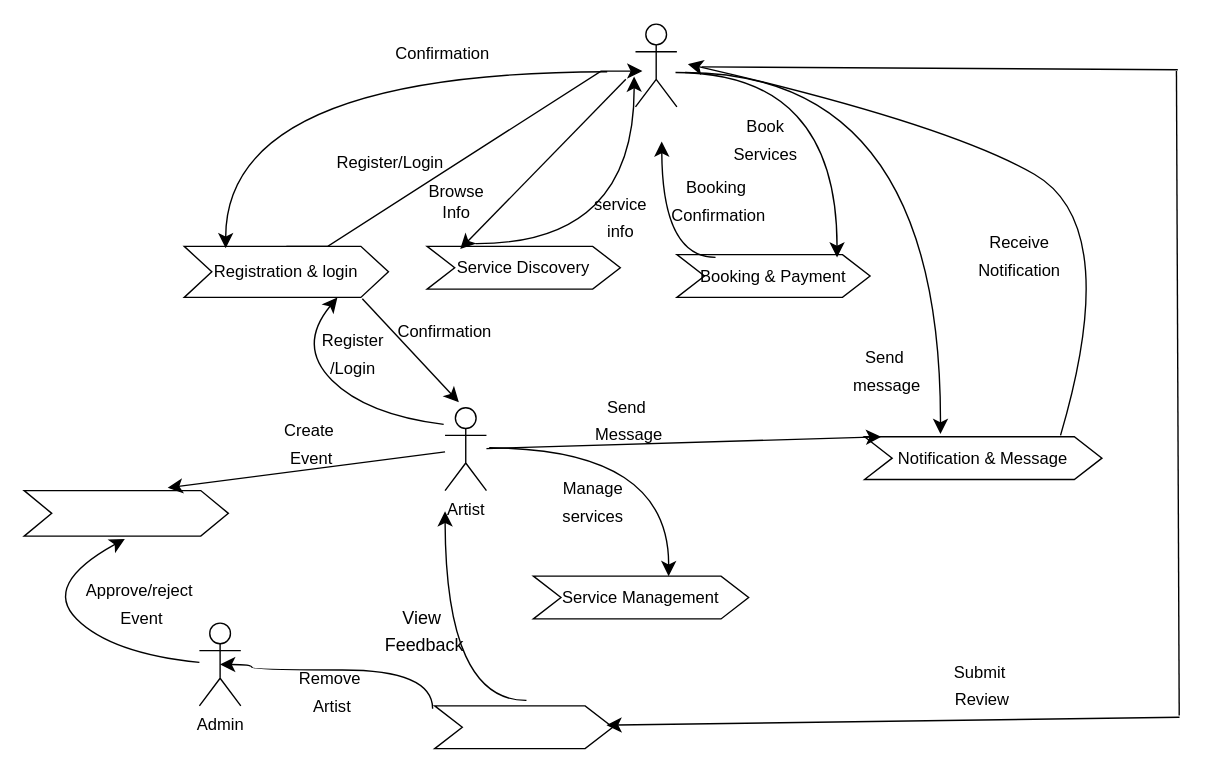
This 1205x780 diagram has some shape labels left out. The shapes that lost their labels are listed below. From the top down, each one's centre as x and y in pixels, then its label:
At (655,65): "User".
At (125,512): "Event Management".
At (523,726): "Review & Rating".
